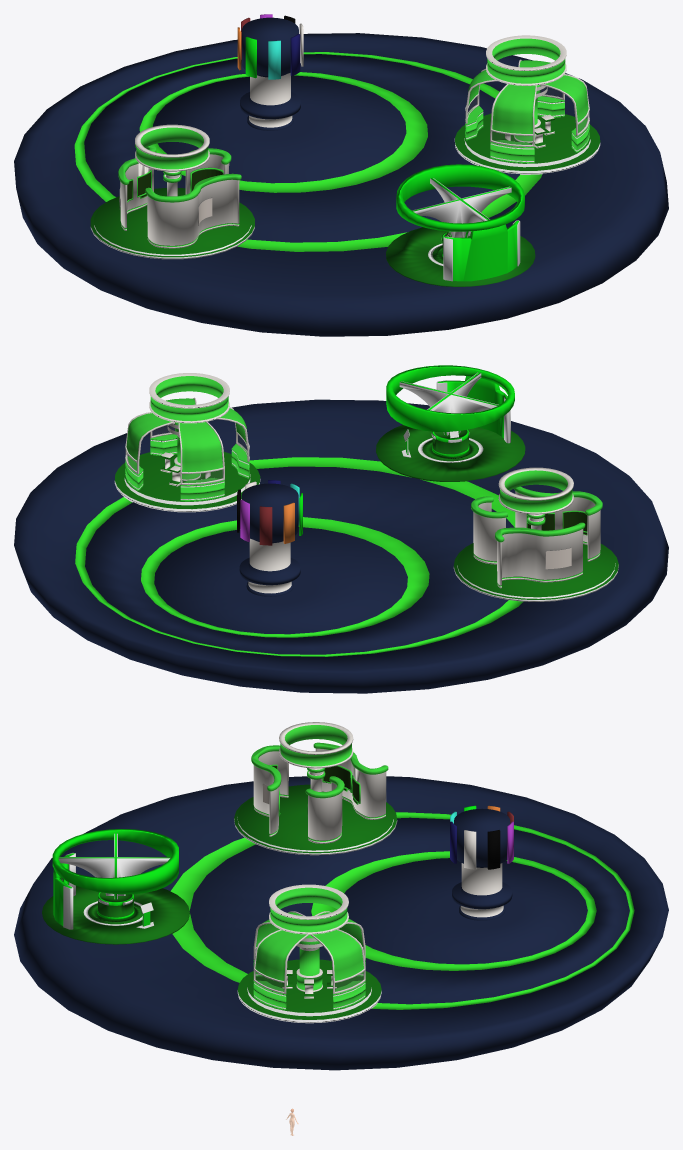
File: geomatika.glb
3 renders of one model, top to bottom at view 1: azimuth 30°, elevation 25°; view 2: azimuth 150°, elevation 25°; view 3: azimuth 270°, elevation 25°, orthographic.
Parts seen in each view (by area): view 1: Floor_Ruangan_Animasi, Booth_Ilustrasi, Booth_aset_3d_animasi, Cube, Tiang tengah; view 2: Floor_Ruangan_Animasi, Booth_Ilustrasi, Booth_aset_3d_animasi, Cube, Tiang tengah, AN_VID_Slot3; view 3: Floor_Ruangan_Animasi, Booth_Ilustrasi, Booth_aset_3d_animasi, Cube, Tiang tengah.
Part boxes in pixels (x1=…): Floor_Ruangan_Animasi: x1=14, y1=33, x2=668, y2=336; Booth_Ilustrasi: x1=90, y1=124, x2=254, y2=259; Booth_aset_3d_animasi: x1=454, y1=35, x2=600, y2=174; Cube: x1=386, y1=164, x2=535, y2=286; Tiang tengah: x1=237, y1=14, x2=303, y2=130; Floor_Ruangan_Animasi: x1=14, y1=399, x2=668, y2=693; Booth_Ilustrasi: x1=453, y1=467, x2=618, y2=601; Booth_aset_3d_animasi: x1=114, y1=373, x2=260, y2=512; Cube: x1=376, y1=365, x2=525, y2=481; Tiang tengah: x1=237, y1=480, x2=302, y2=596; AN_VID_Slot3: x1=545, y1=548, x2=571, y2=569; Floor_Ruangan_Animasi: x1=14, y1=776, x2=668, y2=1070; Booth_Ilustrasi: x1=234, y1=722, x2=397, y2=855; Booth_aset_3d_animasi: x1=237, y1=884, x2=381, y2=1023; Cube: x1=42, y1=829, x2=189, y2=944; Tiang tengah: x1=450, y1=805, x2=513, y2=920.
Size of the model in its own units: 37.44 by 14.71 by 38.21.
Materials: 22 (3 with a texture image).
